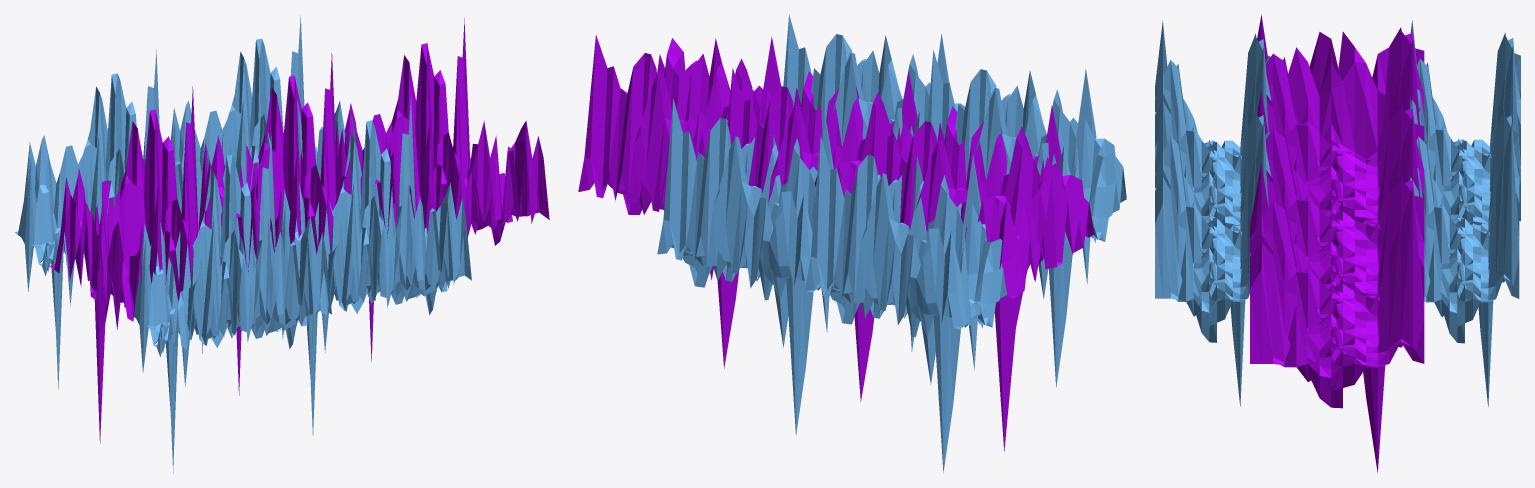
File: terrain.dae
3 renders of one model, left to right at view 1: azimuth 30°, elevation 25°; view 2: azimuth 150°, elevation 25°; view 3: azimuth 270°, elevation 25°, orthographic. The views are drawn at different scales.
Visible parts, largest first — view 1: group_2_002, group_2_004, group_1, group_2, group_2_001, group_2_003, group_2_005; view 2: group_2_001, group_2_005, group_1, group_2, group_2_002, group_2_003, group_2_004; view 3: group_2, group_1, group_2_004, group_2_005, group_2_003, group_2_002, group_2_001.
Boxes of the visible parts, <box> form: group_2_002: <box>134,132,331,473</box>; group_2_004: <box>280,97,471,435</box>; group_1: <box>49,86,274,443</box>; group_2: <box>335,17,549,361</box>; group_2_001: <box>15,49,209,389</box>; group_2_003: <box>199,53,413,395</box>; group_2_005: <box>170,15,356,353</box>; group_2_001: <box>804,135,1006,472</box>; group_2_005: <box>657,98,833,435</box>; group_1: <box>871,103,1094,451</box>; group_2: <box>578,35,781,368</box>; group_2_002: <box>927,49,1126,387</box>; group_2_003: <box>727,68,917,402</box>; group_2_004: <box>783,14,964,351</box>; group_2: <box>1250,162,1424,472</box>; group_1: <box>1257,14,1424,222</box>; group_2_004: <box>1155,96,1271,406</box>; group_2_005: <box>1408,97,1519,406</box>; group_2_003: <box>1250,90,1424,295</box>; group_2_002: <box>1155,20,1271,229</box>; group_2_001: <box>1410,20,1520,225</box>.
Bounding box in the file's own units: 210 × 142 × 155.
